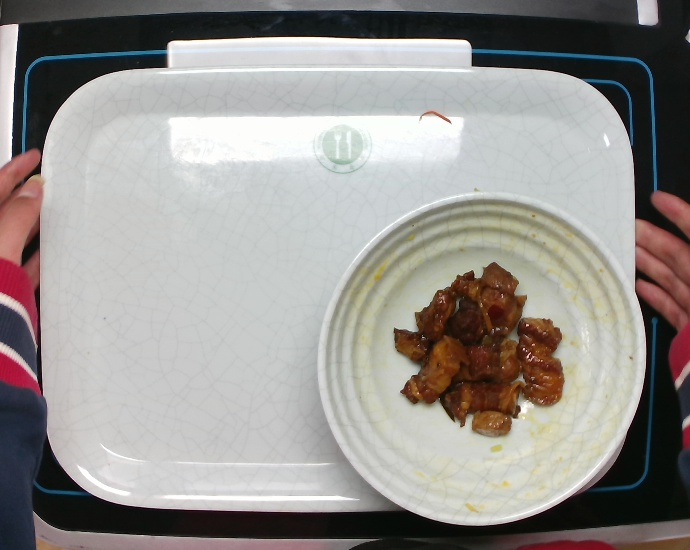JYsf-Da_Tang_Wan: (314, 189, 649, 529)
